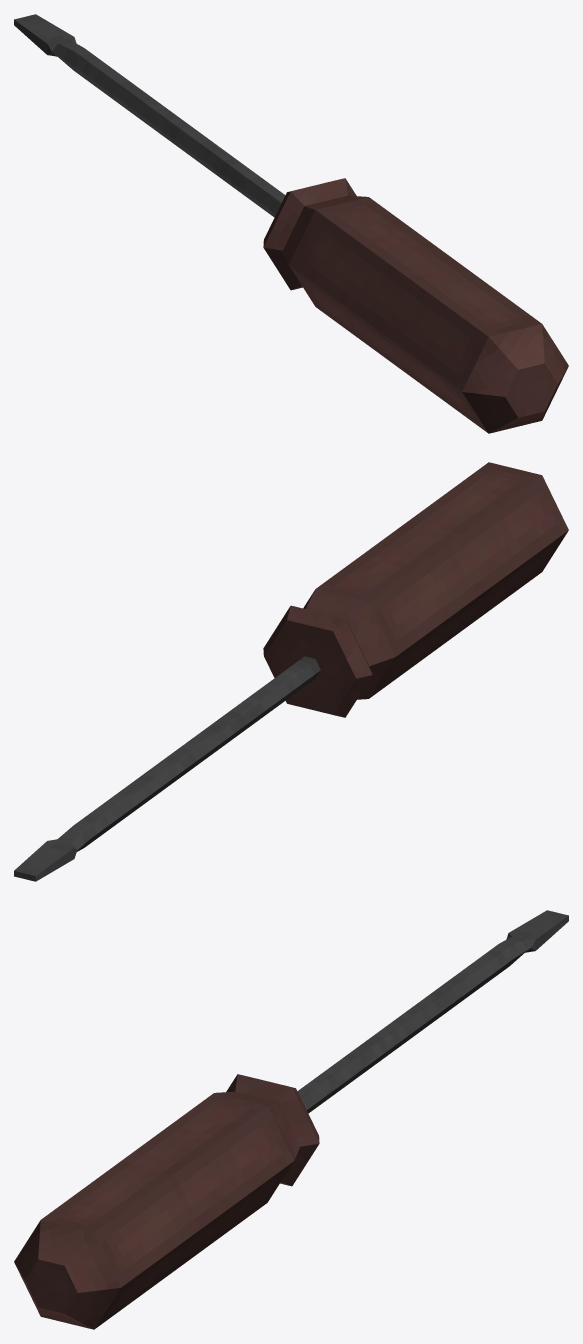
Rendered from screwdriver_mp_1.glb.
3 views of the same model, one above another, from view 1: azimuth 30°, elevation 25°; view 2: azimuth 150°, elevation 25°; view 3: azimuth 330°, elevation 25° (orthographic).
Parts seen in each view (by area): view 1: screwdriver_mp_1; view 2: screwdriver_mp_1; view 3: screwdriver_mp_1.
Boxes of the visible parts, bbox=[...] form: screwdriver_mp_1: bbox=[14, 14, 568, 433]; screwdriver_mp_1: bbox=[14, 462, 568, 881]; screwdriver_mp_1: bbox=[14, 910, 568, 1329].
Size of the model in its own units: 0.0393 by 0.034 by 0.3156.
1 material, 1 textured.
